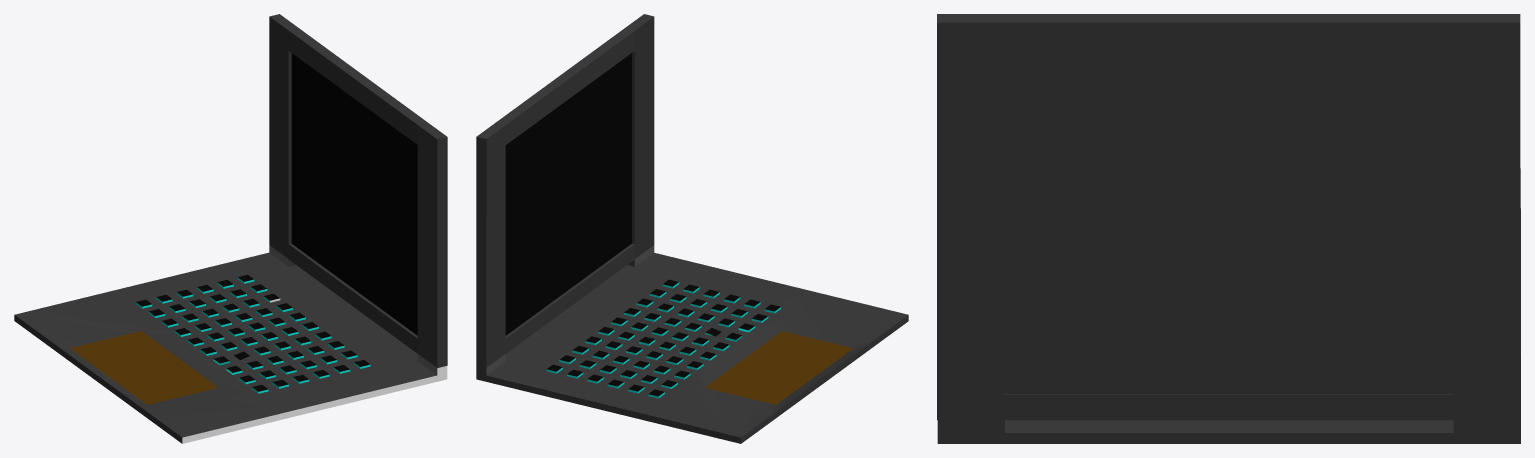
The model's file is SM_Laptop.fbx.
3 renders of one model, left to right at view 1: azimuth 30°, elevation 25°; view 2: azimuth 150°, elevation 25°; view 3: azimuth 270°, elevation 25°, orthographic. The views are drawn at different scales.
Parts seen in each view (by area): view 1: pCube1; view 2: pCube1; view 3: pCube1.
Boxes of the visible parts, box(x1,y1,x2,y2) form: pCube1: box(14, 14, 447, 443); pCube1: box(476, 14, 908, 443); pCube1: box(937, 14, 1520, 443).
Size of the model in its own units: 8.03 by 7.01 by 8.8.
